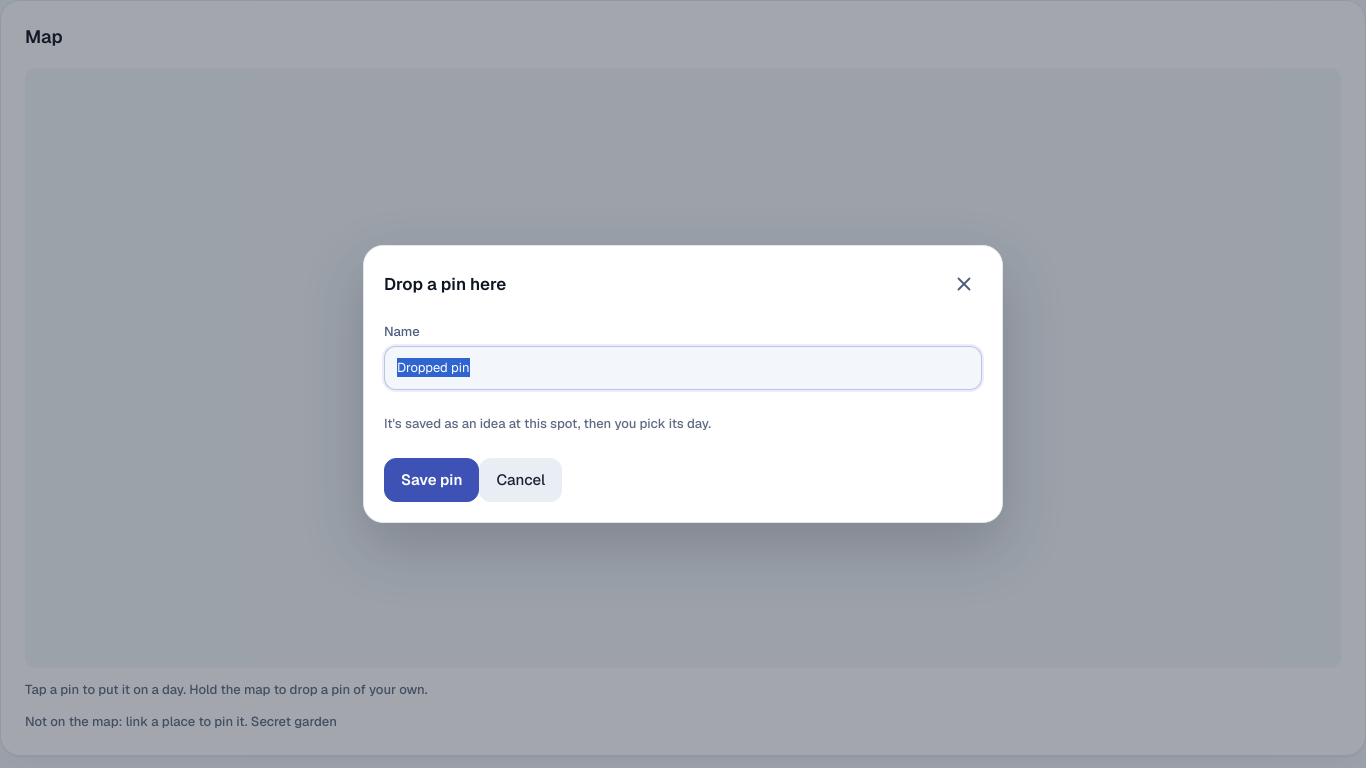
the ideas map › asks for a name after a held press, then drops the pin there
expect the field labelled "Name" holds "Dropped pin": met, box [384,346,982,390]
Click the button "Save pin" at (432,480), box [384,458,479,502]
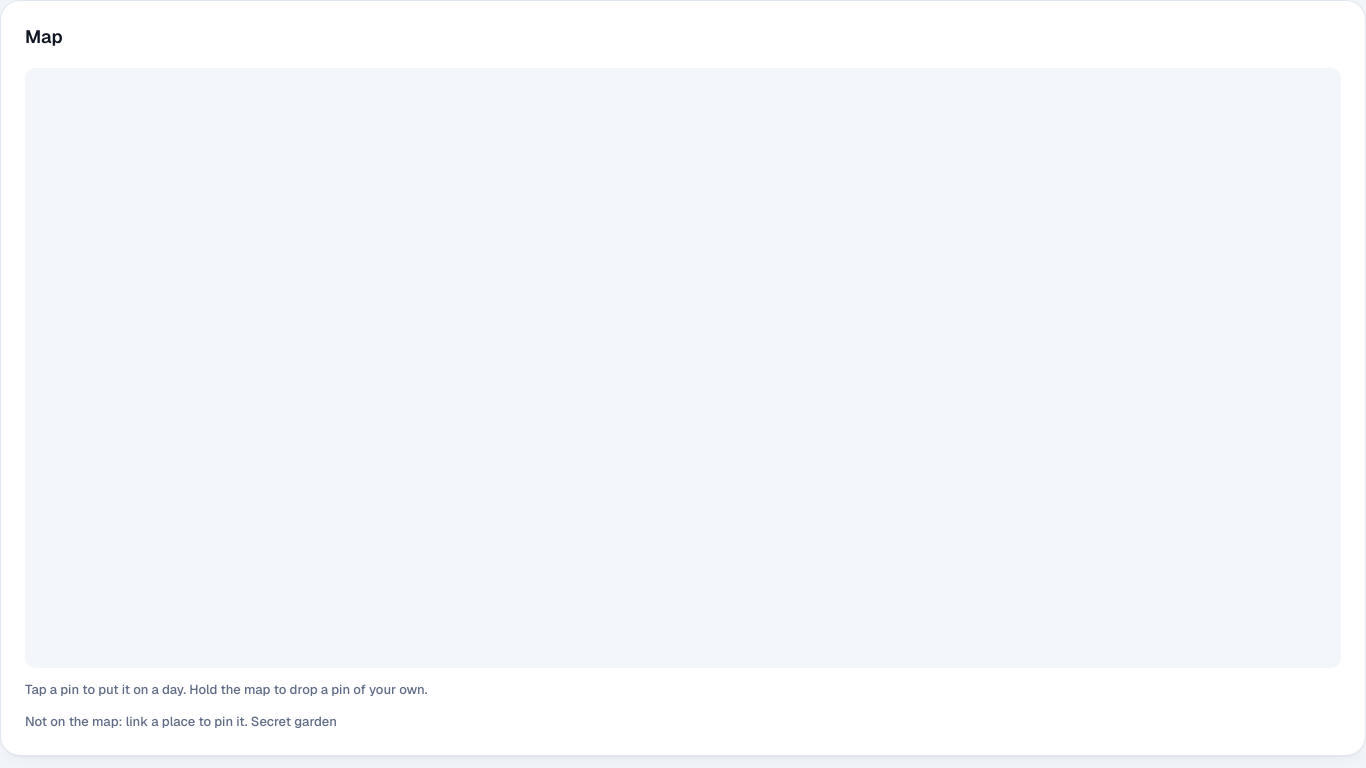
expect the heading "Drop a pin here" is gone: met
